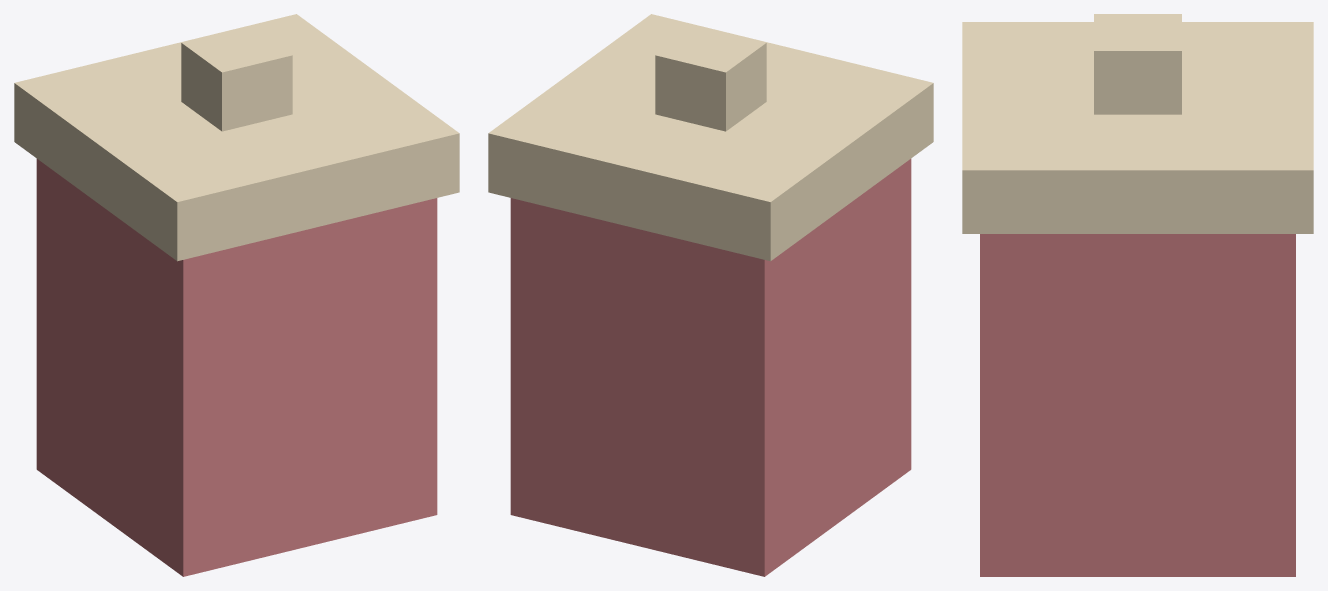
Rendered from cookie_jar.glb.
3 views of the same model, side by side, from view 1: azimuth 30°, elevation 25°; view 2: azimuth 150°, elevation 25°; view 3: azimuth 270°, elevation 25° (orthographic). The views are drawn at different scales.
Visible parts, largest first — view 1: Box1, Box2, Box3; view 2: Box1, Box2, Box3; view 3: Box1, Box2, Box3.
Part boxes in pixels (<box>): Box1: <box>36,159,437,576</box>; Box2: <box>14,14,459,261</box>; Box3: <box>181,25,292,131</box>; Box1: <box>510,159,911,576</box>; Box2: <box>488,14,933,261</box>; Box3: <box>655,25,766,131</box>; Box1: <box>980,234,1295,576</box>; Box2: <box>962,22,1313,233</box>; Box3: <box>1094,14,1181,114</box>.
Size of the model in its own units: 0.2 by 0.3 by 0.2.
